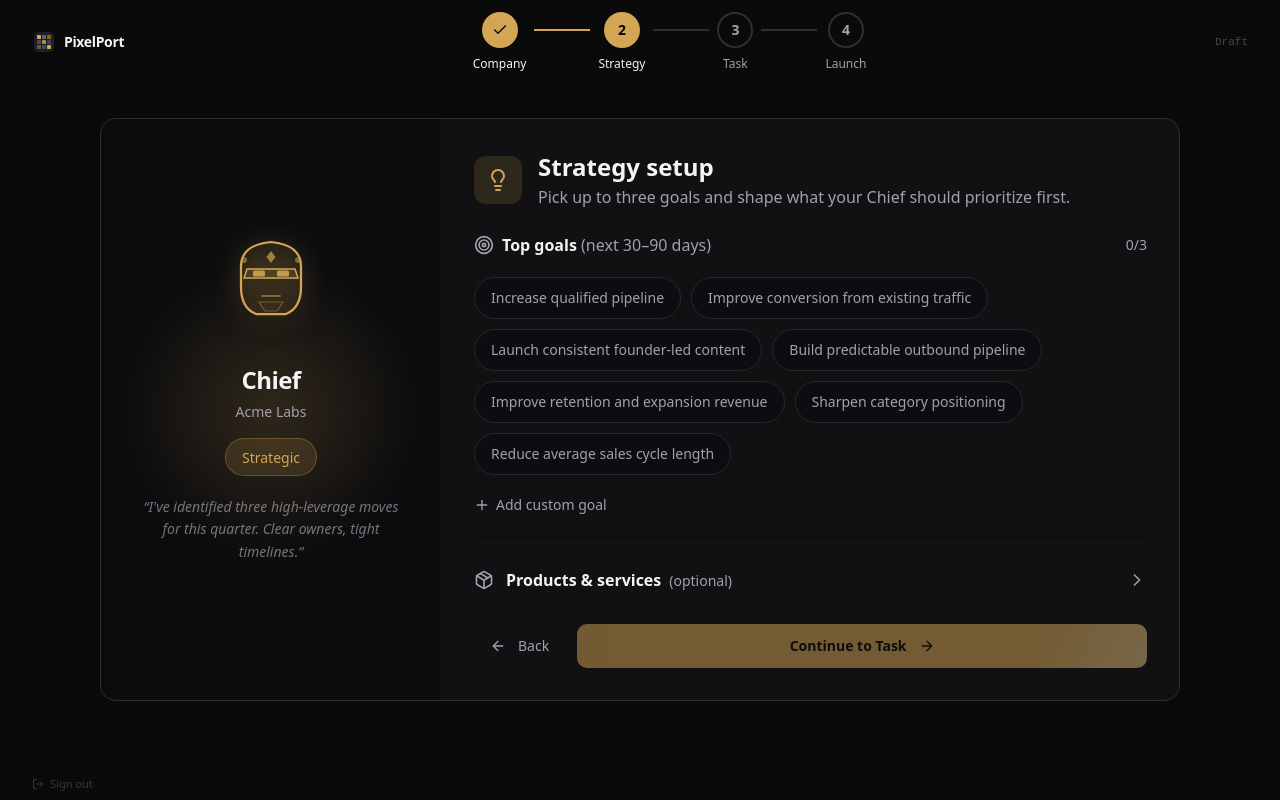
Test: Onboarding flow › enforces max-3 goals on strategy step
Check: the heading "Strategy setup" is shown, box [538, 150, 714, 183]
What coordinates should you click on to do the following:
click the button "Increase qualified pipeline"
I would click on:
 (578, 298)
Its box is [474, 277, 681, 319].
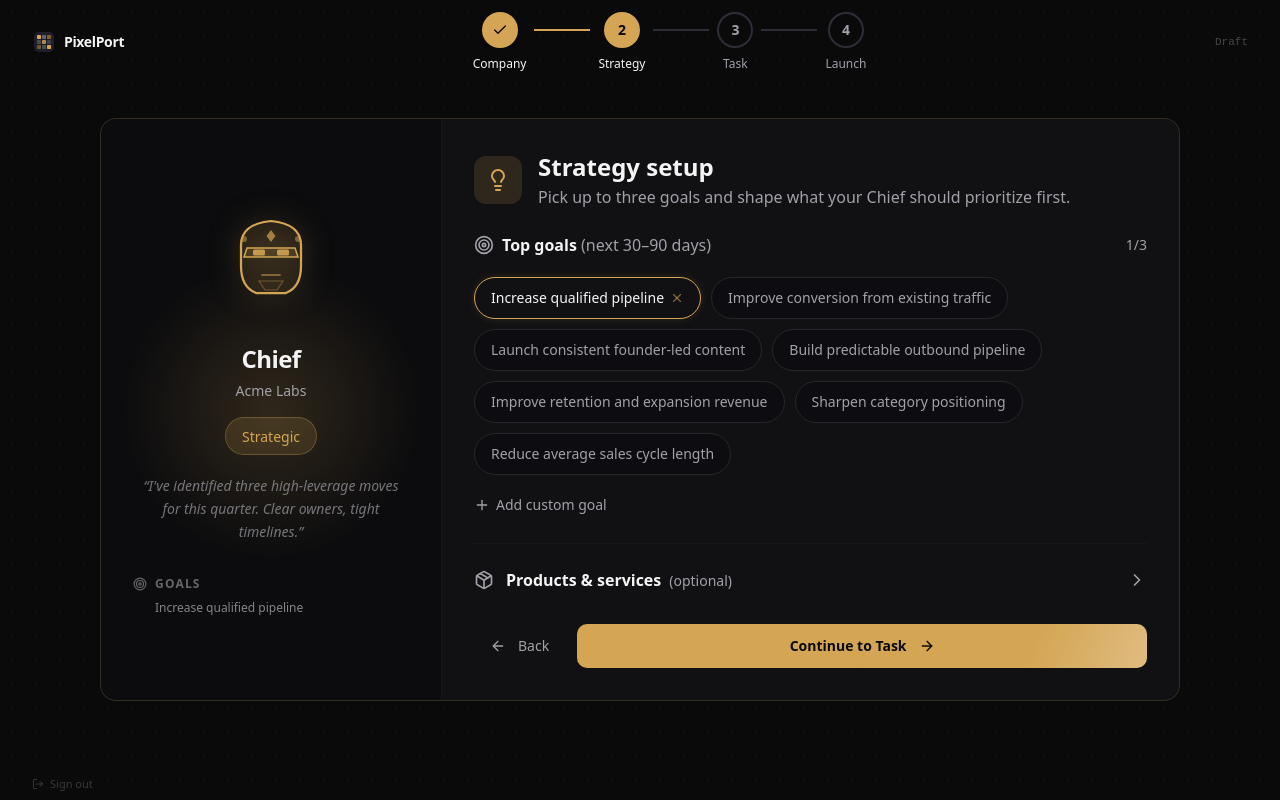
What coordinates should you click on to do the following:
click the button "Improve conversion from existing traffic"
I would click on:
 (860, 298)
Its box is [711, 277, 1008, 319].
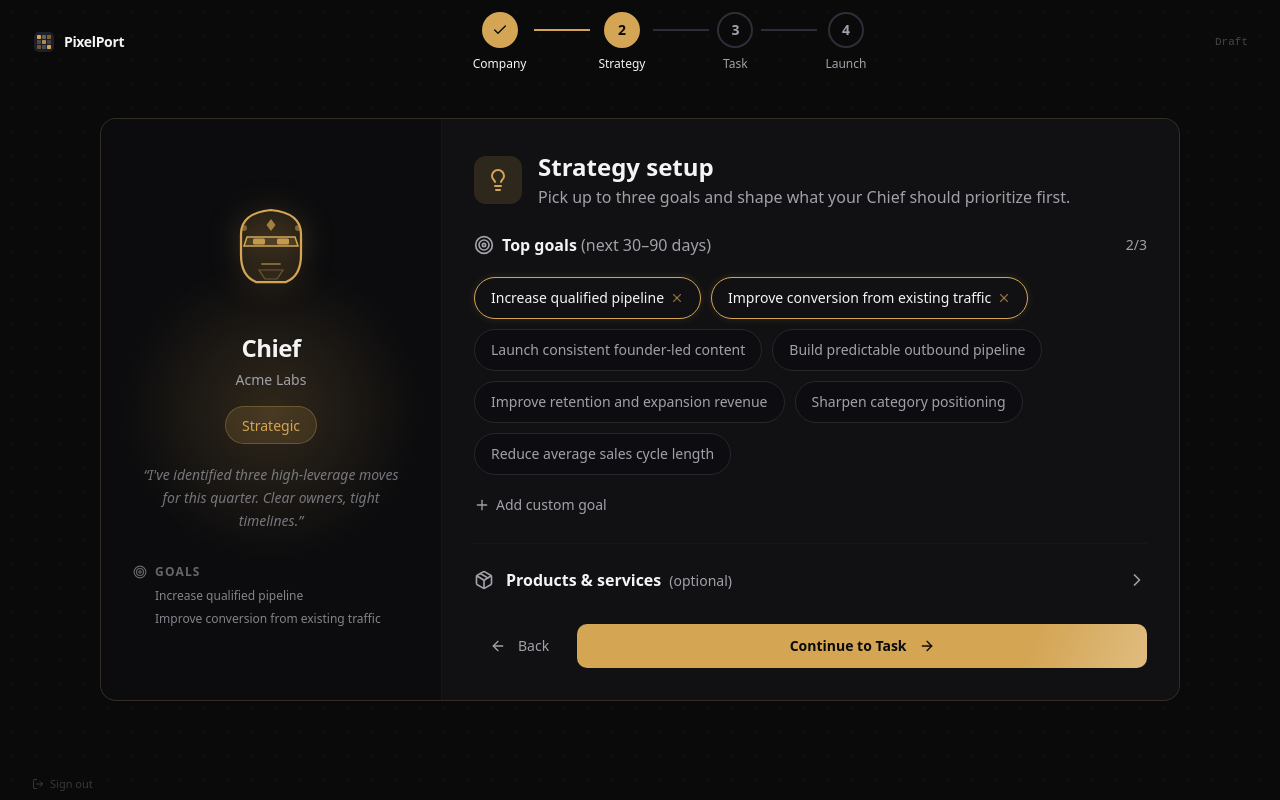
What coordinates should you click on to do the following:
click the button "Launch consistent founder-led content"
I would click on:
 (618, 350)
Its box is [474, 329, 762, 371].
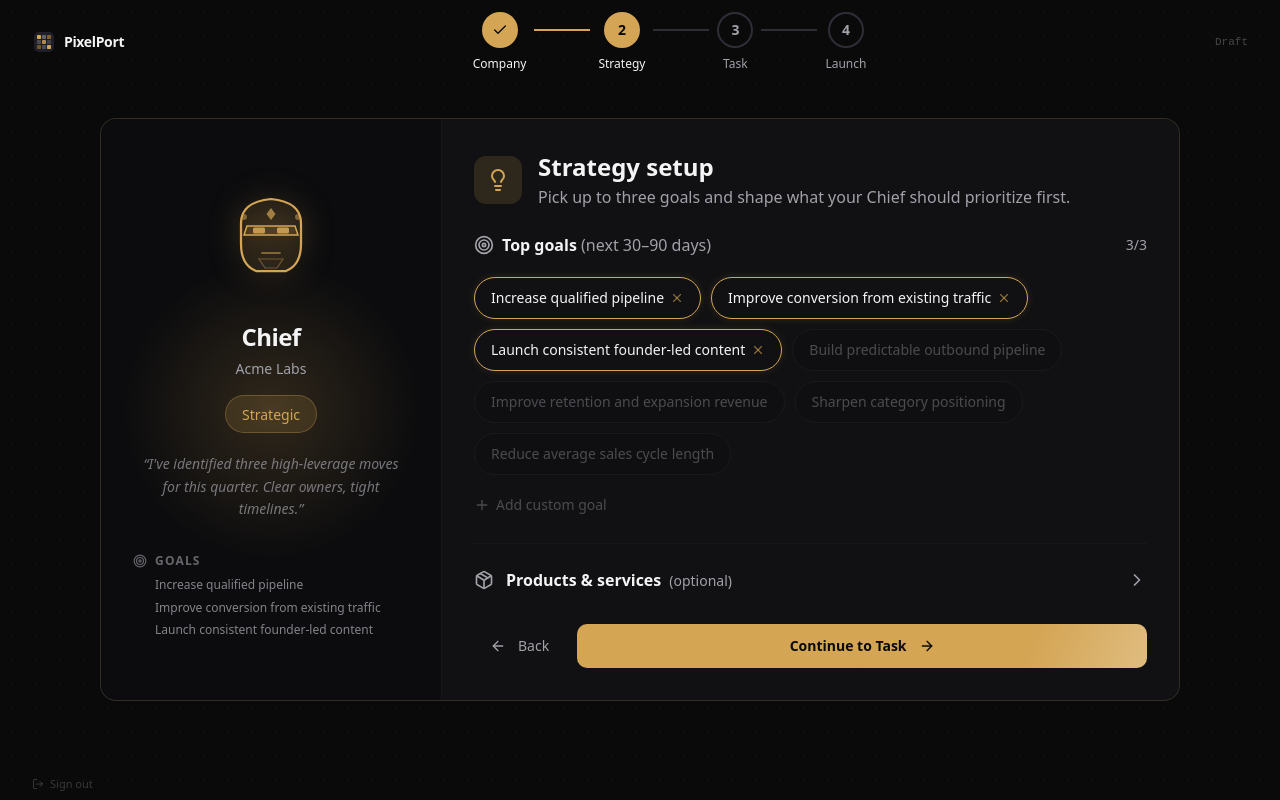
What coordinates should you click on to do the following:
click the button "Build predictable outbound pipeline"
I would click on:
 (927, 350)
Its box is [792, 329, 1062, 371].
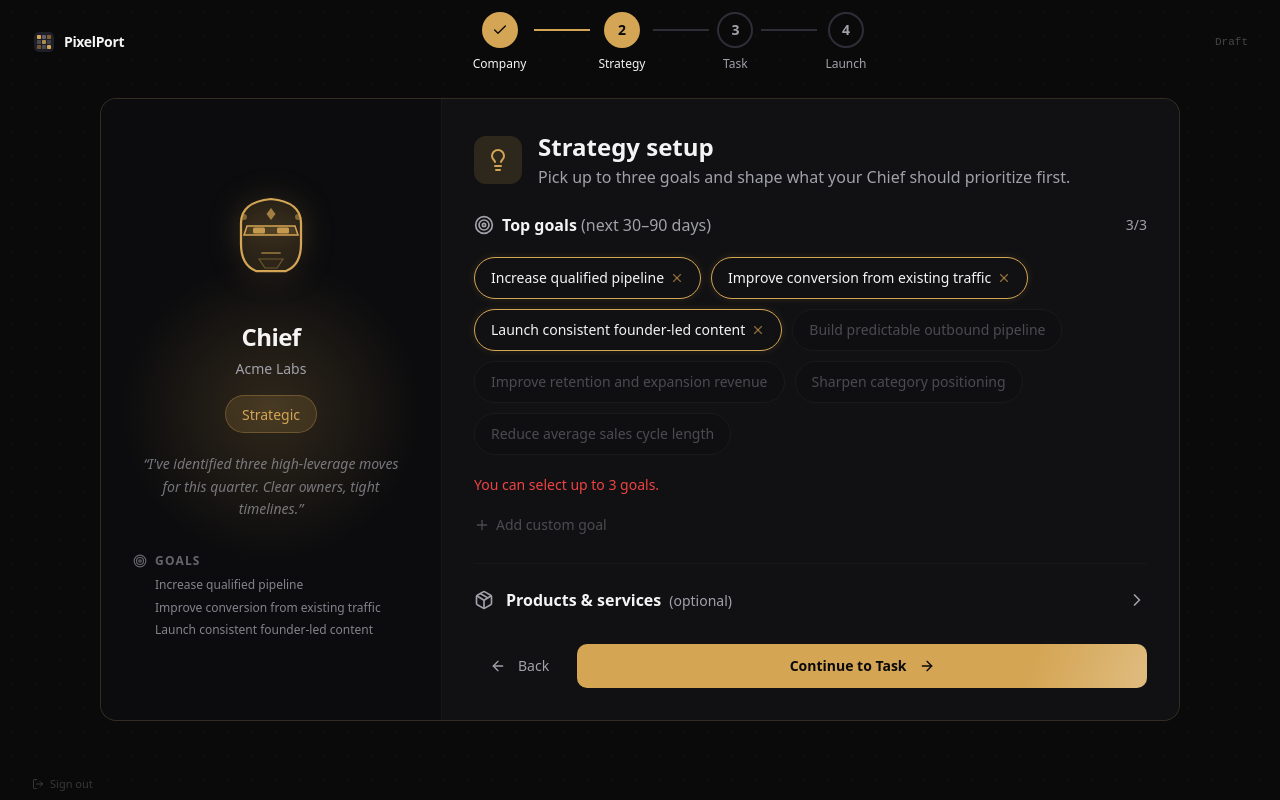
Check: the text "You can select up to 3 goals." is shown, box [474, 475, 659, 494]
